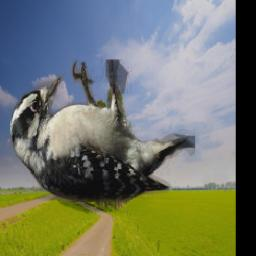Woodpecker: (11, 59, 196, 202)
